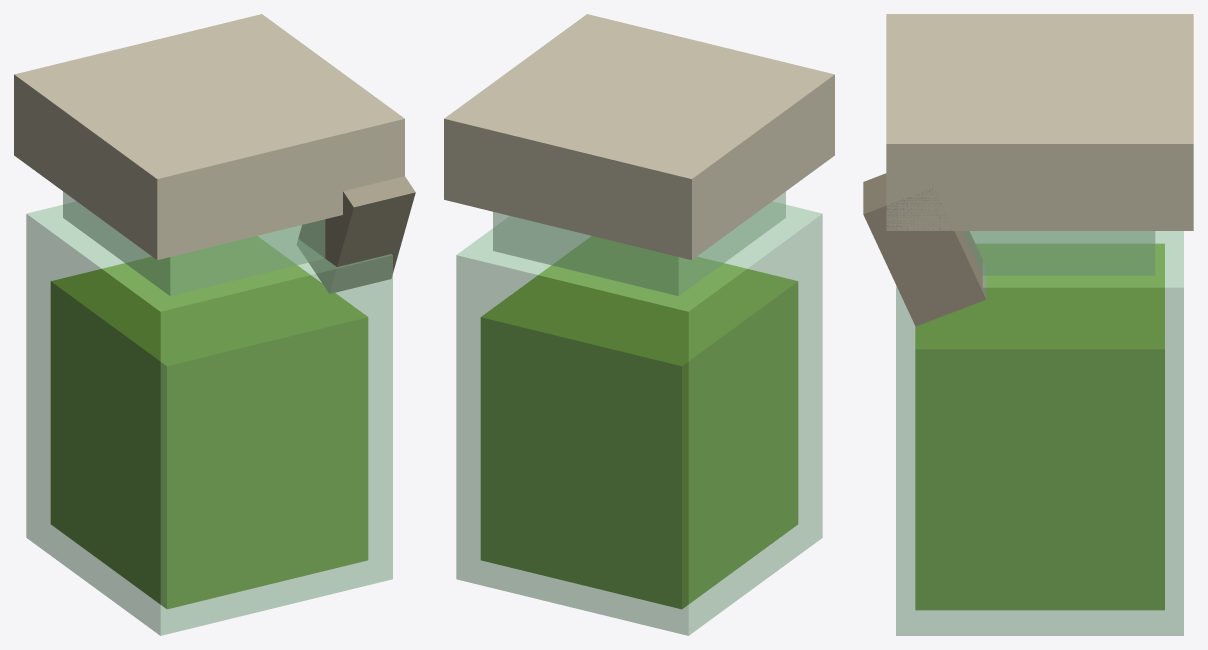
File: gun-bile.glb
The picture shows the model from 3 angles, left to right: view 1: azimuth 30°, elevation 25°; view 2: azimuth 150°, elevation 25°; view 3: azimuth 270°, elevation 25°; orthographic projection. The views are drawn at different scales.
Parts seen in each view (by area): view 1: bile; view 2: bile; view 3: bile.
Boxes of the visible parts, x1,y1,x2,y2 form: bile: [14, 14, 415, 635]; bile: [444, 14, 834, 635]; bile: [863, 14, 1193, 635].
Size of the model in its own units: 0.16 by 0.285 by 0.1721.
